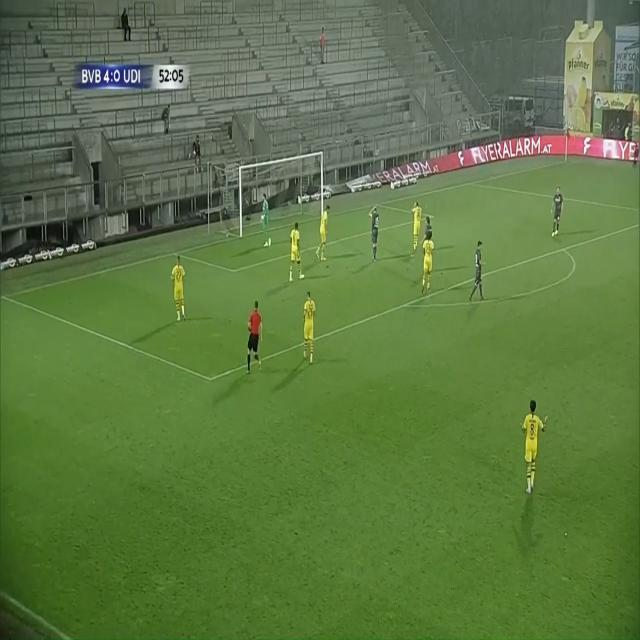goalkeeper: (259, 189, 273, 254)
player: (524, 399, 544, 499), (302, 283, 324, 370), (169, 248, 191, 334), (547, 182, 570, 246), (472, 231, 486, 314), (290, 219, 306, 288), (319, 199, 333, 269), (421, 231, 435, 300), (410, 196, 425, 257), (371, 196, 382, 258), (425, 213, 433, 242)
referee: (245, 300, 269, 387)
